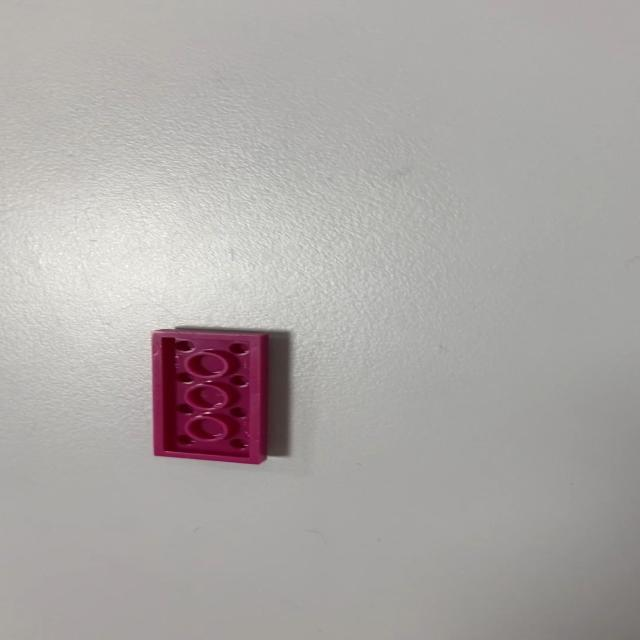C4x2x0: (150, 328, 270, 464)
